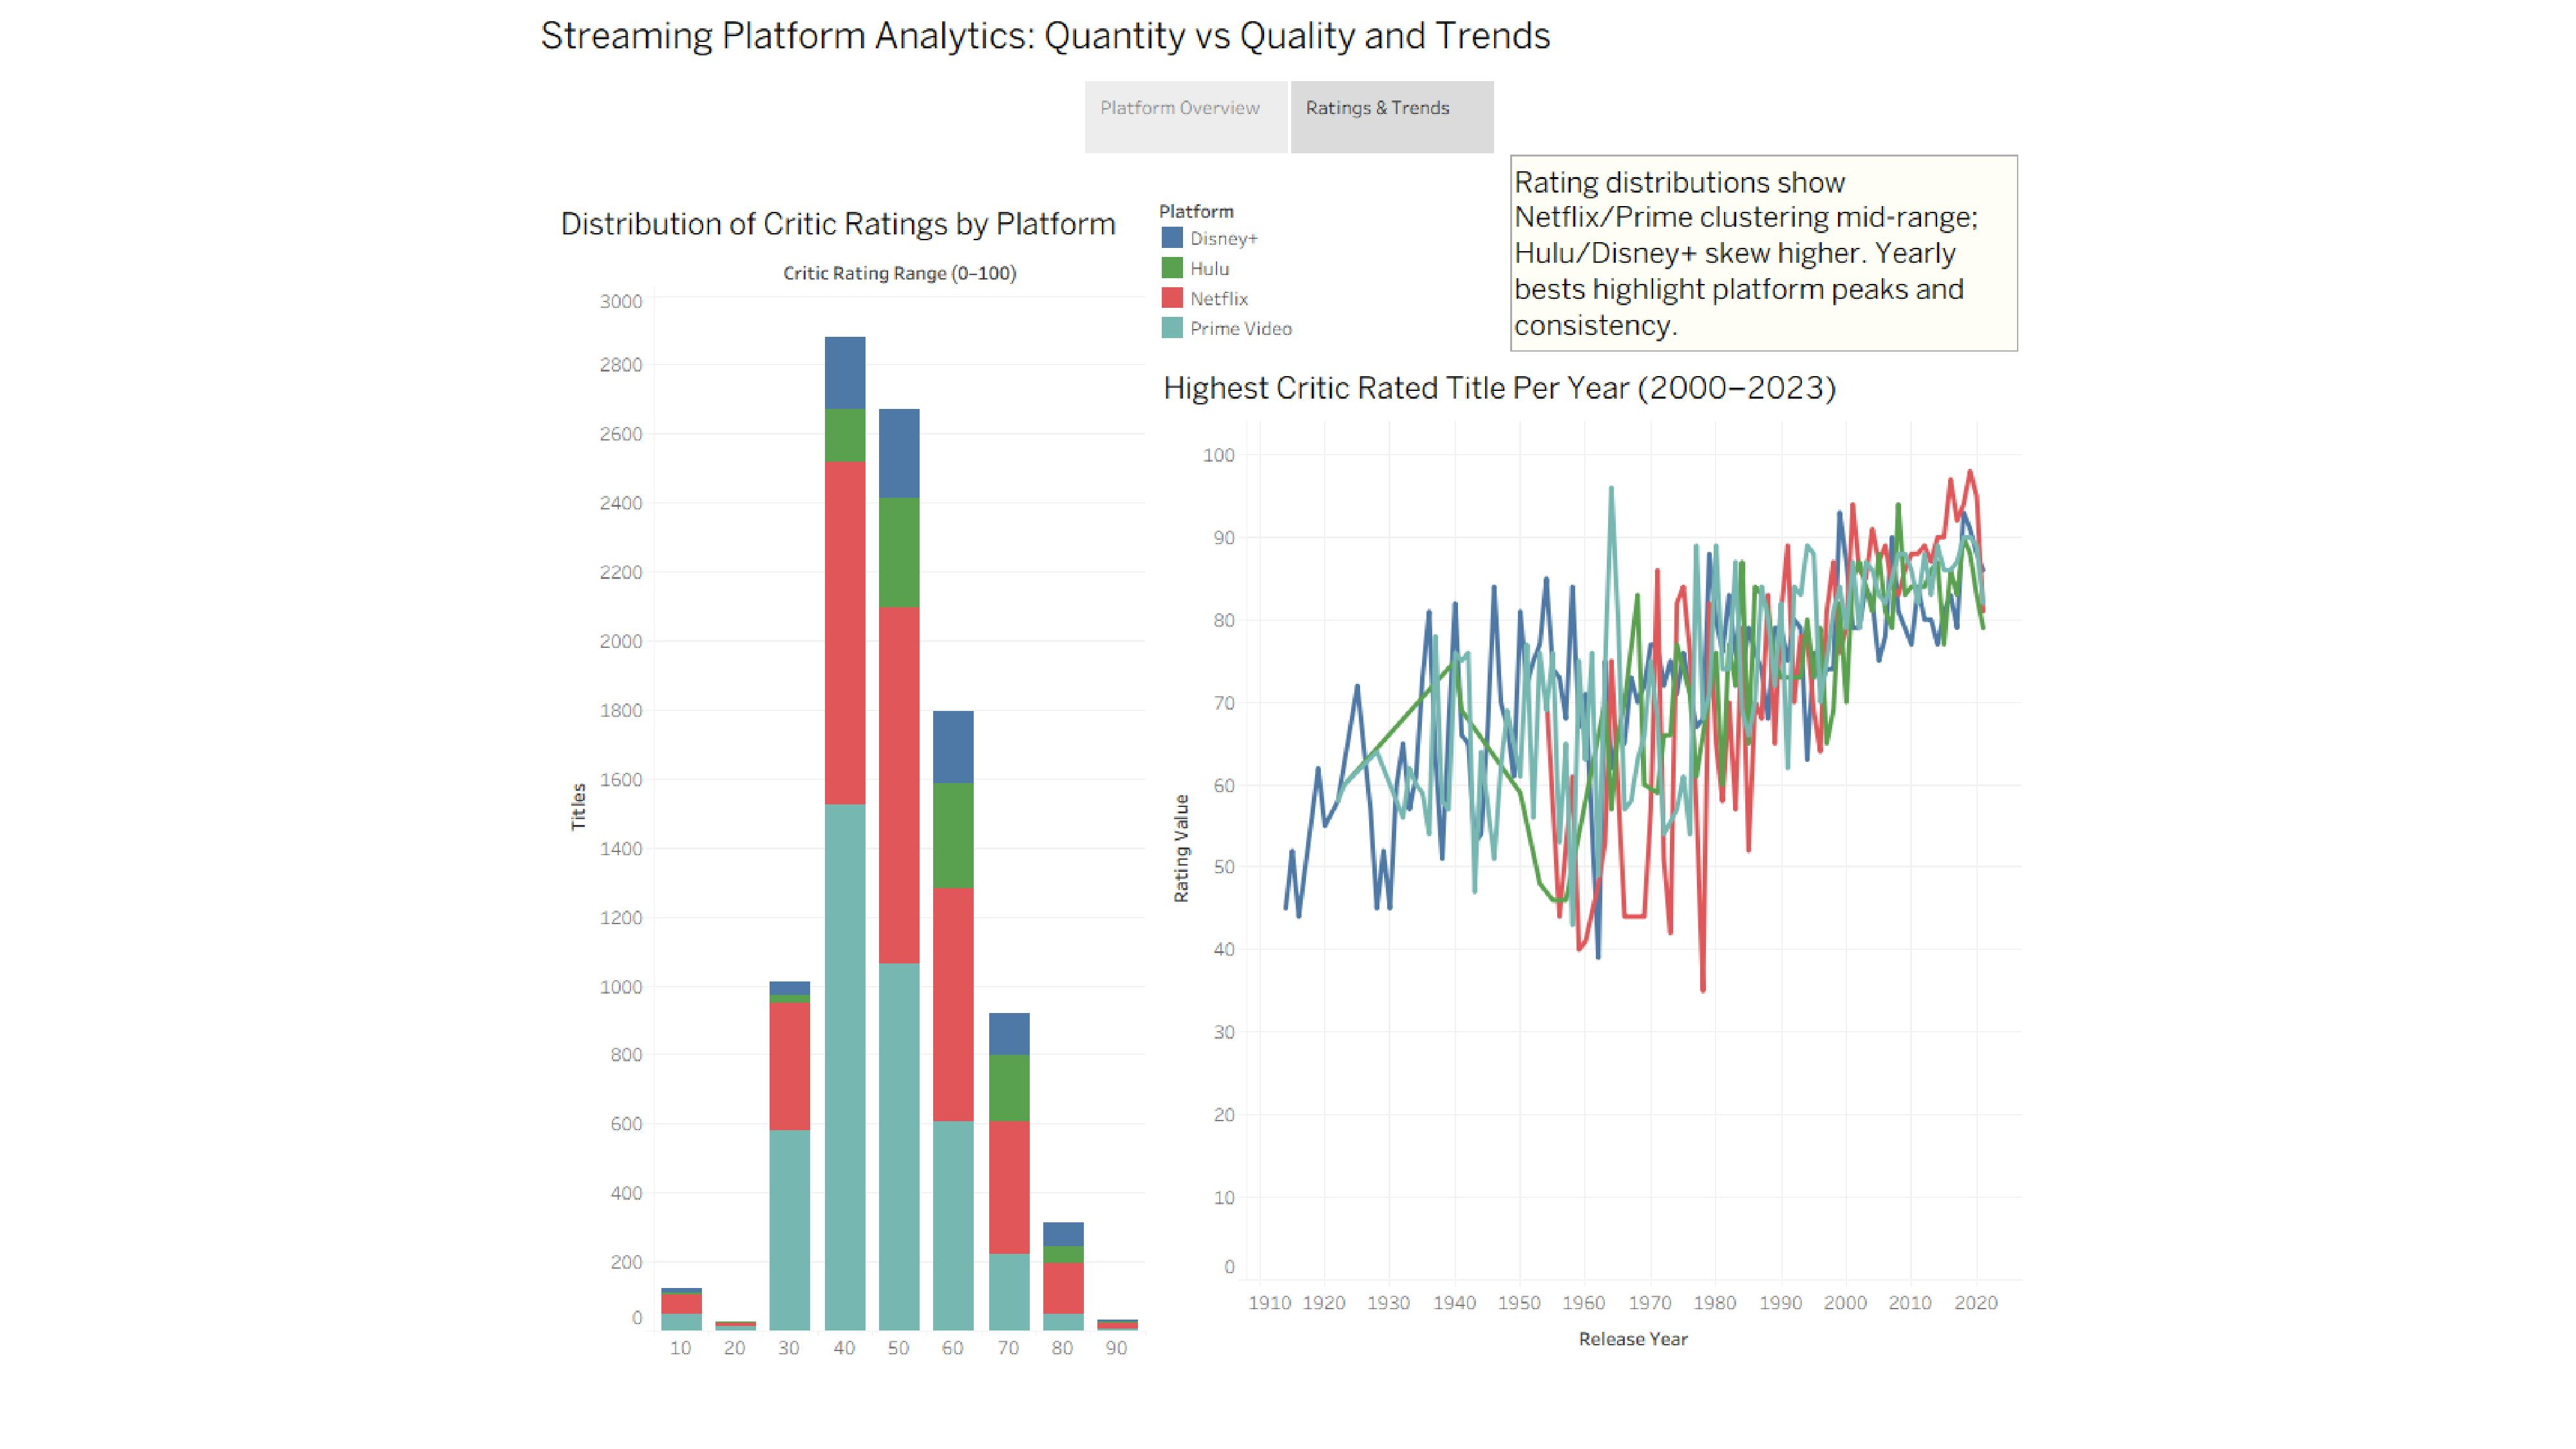

This screenshot's page, from the dashboard's own definition file:
{"tool":"tableau","page":{"name":"Ratings & Trends","canvas":[1000,800],"ordinal":1},"visuals":[{"type":"worksheet","title":"Rating Distribution","mark":"Bar","rows":["TITLES"],"cols":["BIN_START"],"box":[8,8,401,784]},{"type":"legend","title":"Rating Distribution","param":"[federated.0nvil680hxj7291b6efyn0hcqh0q].[none:PLATFORM (rating_distribution_bin","box":[409,8,583,109]},{"type":"worksheet","title":"Top by Year","mark":"Line","rows":["RATING_VALUE (highest_rated_per_year_platform.csv)"],"cols":["RELEASE_YEAR (highest_rated_per_year_platform.csv)"],"box":[409,117,583,675]}]}

Visuals, with their boxes on the page's 1000x800 design canvas (x1, y1, x2, y2). These are canvas units, not pixel positions in the 2576x1449 screenshot, which may show the page scaled, cropped or inside an application window:
"Rating Distribution" worksheet (Bar marks): <box>8,8,409,792</box>
"Rating Distribution" legend: <box>409,8,992,117</box>
"Top by Year" worksheet (Line marks): <box>409,117,992,792</box>
